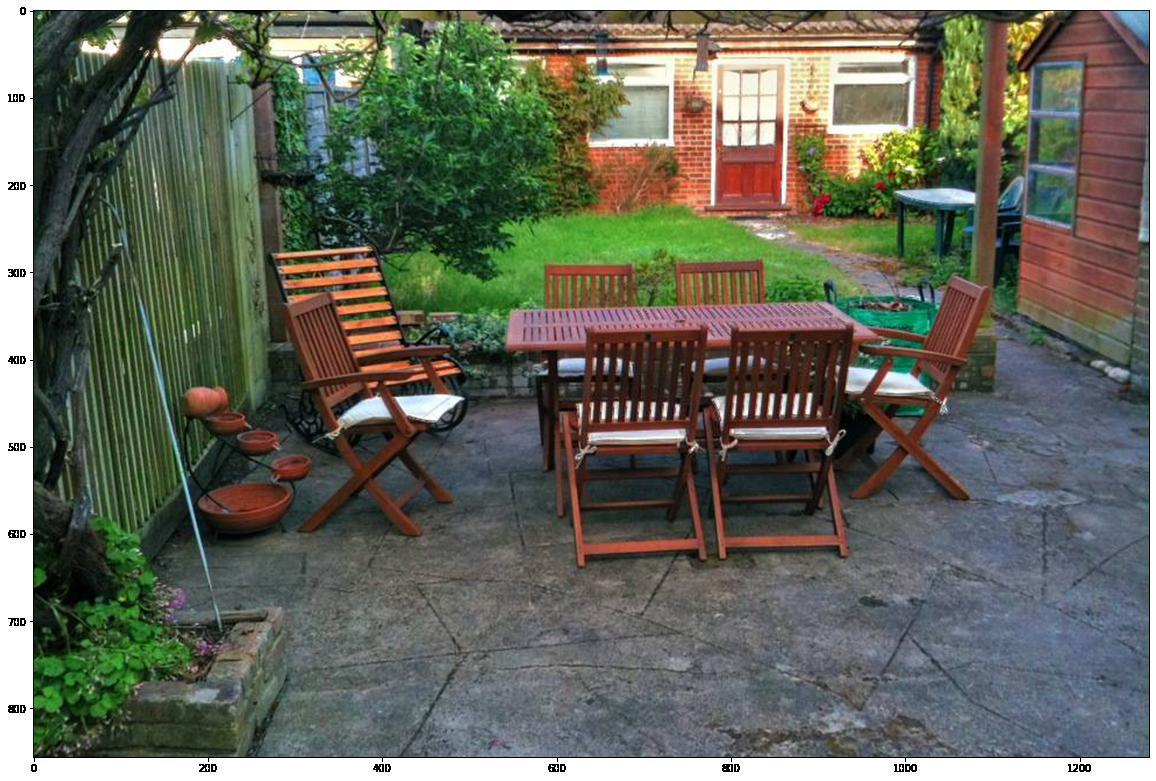Chair: (270, 250, 465, 516), (689, 316, 855, 561), (556, 328, 713, 571), (830, 278, 991, 502)
Kitchen & dining room table: (512, 295, 877, 552)
Tree: (279, 9, 610, 274)
